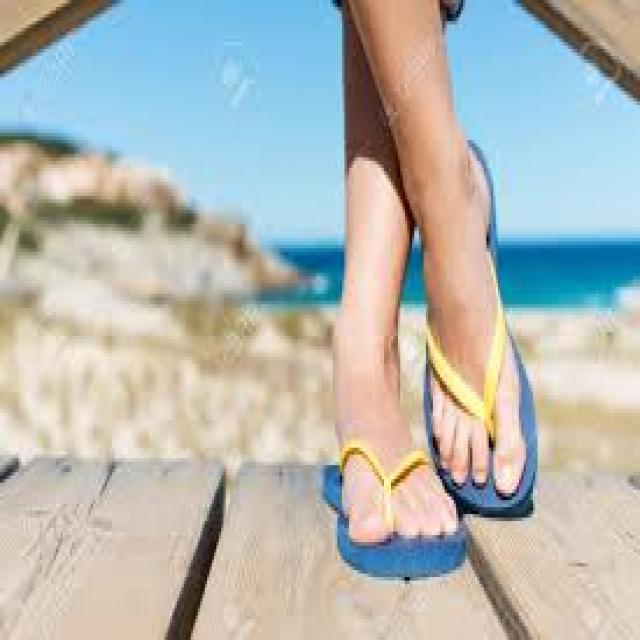No_Shoe: (413, 190, 549, 505), (314, 411, 468, 571)
